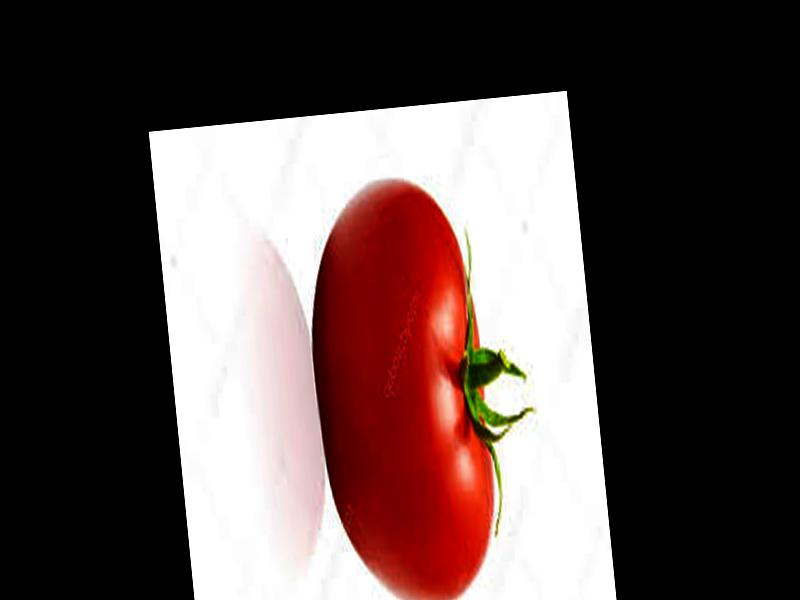Tomato: (297, 171, 504, 600)
